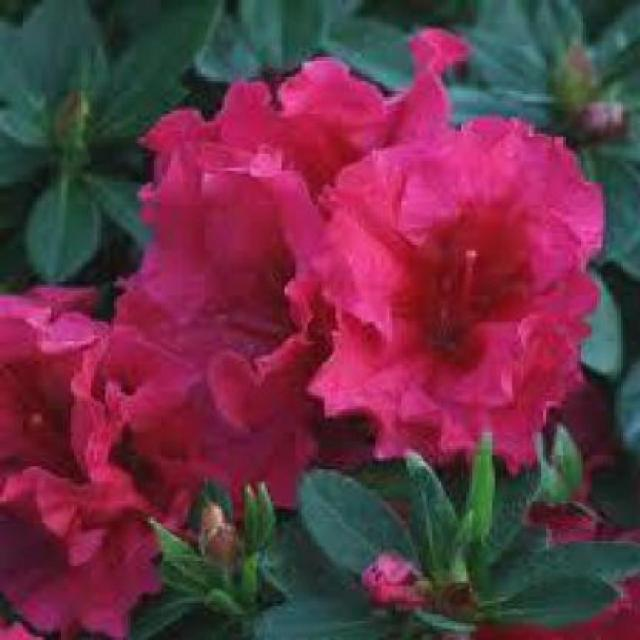flower: (129, 51, 502, 392), (278, 108, 597, 469), (12, 298, 236, 610)
